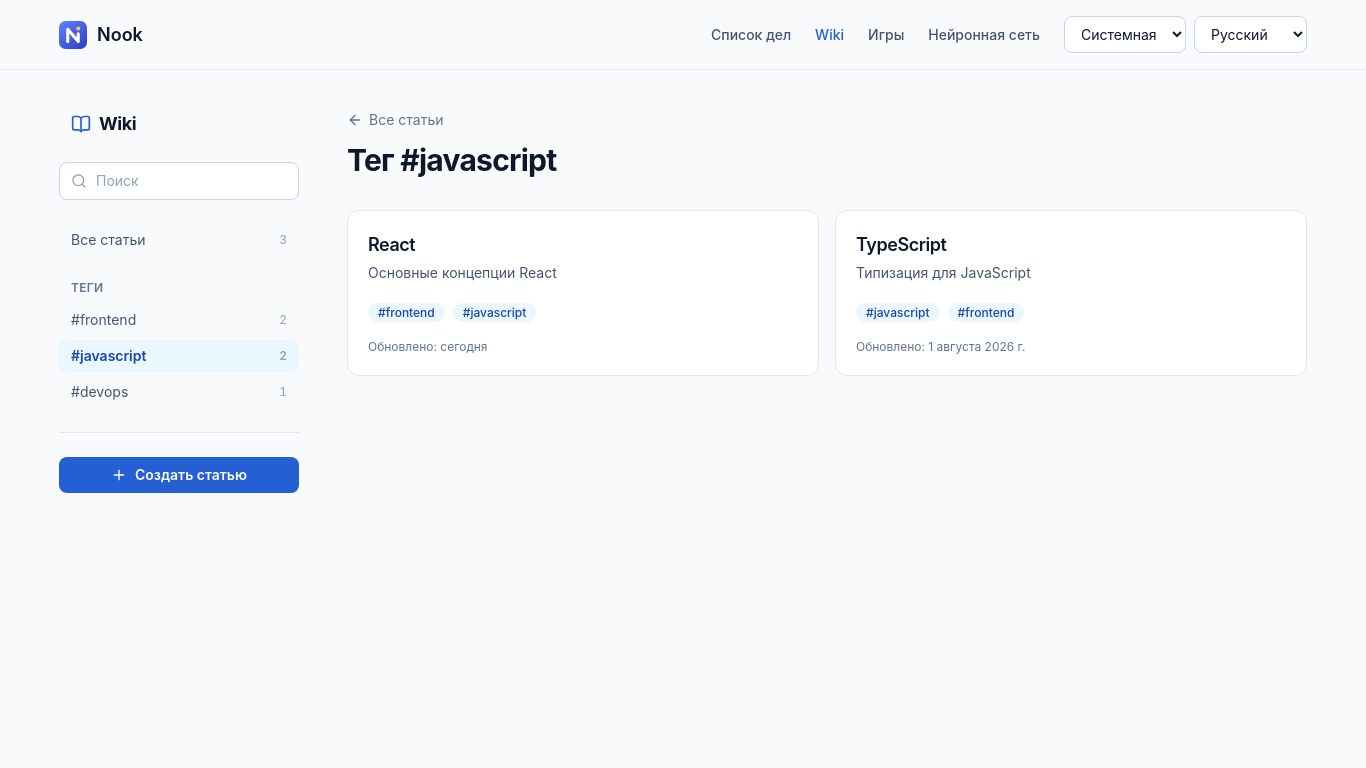
Test case: Wiki › tags › has a page per tag with all its articles
This screenshot has width=1366, height=768.
Expected: the heading "Тег #javascript" is shown, [347,142,556,178]
Click the link "Все статьи" at point(395, 120), box [347,110,444,130]
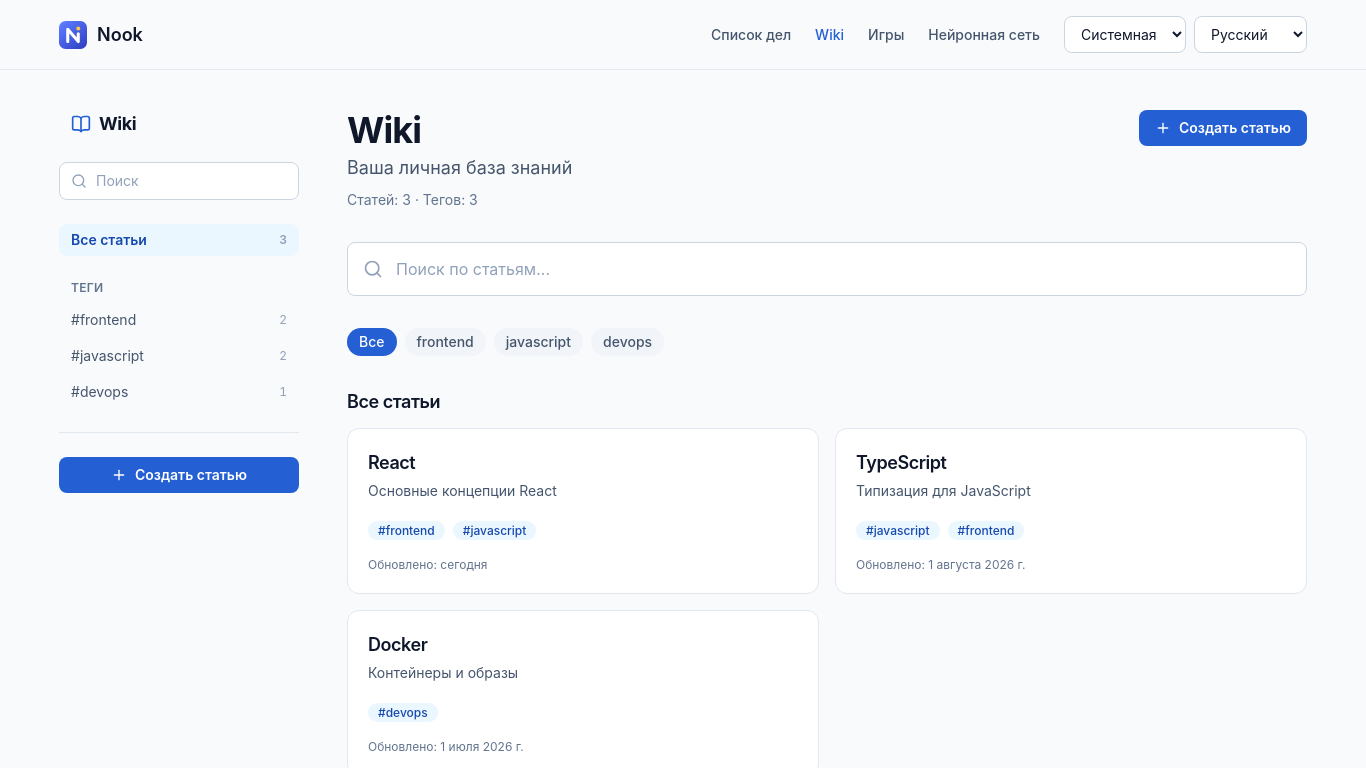
Expected: the heading "Wiki" is shown, [347,108,421,152]
